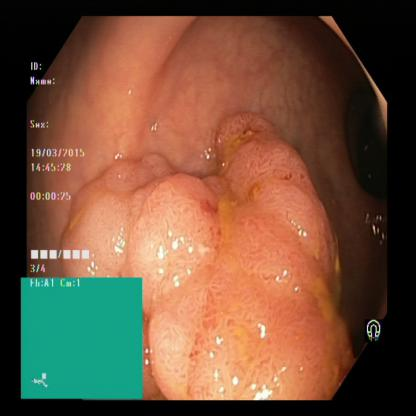Labels: (28, 58, 104, 275), (21, 277, 145, 403), (359, 312, 388, 352)
Polyps: (224, 123, 340, 389), (142, 272, 298, 398), (75, 161, 217, 273)
